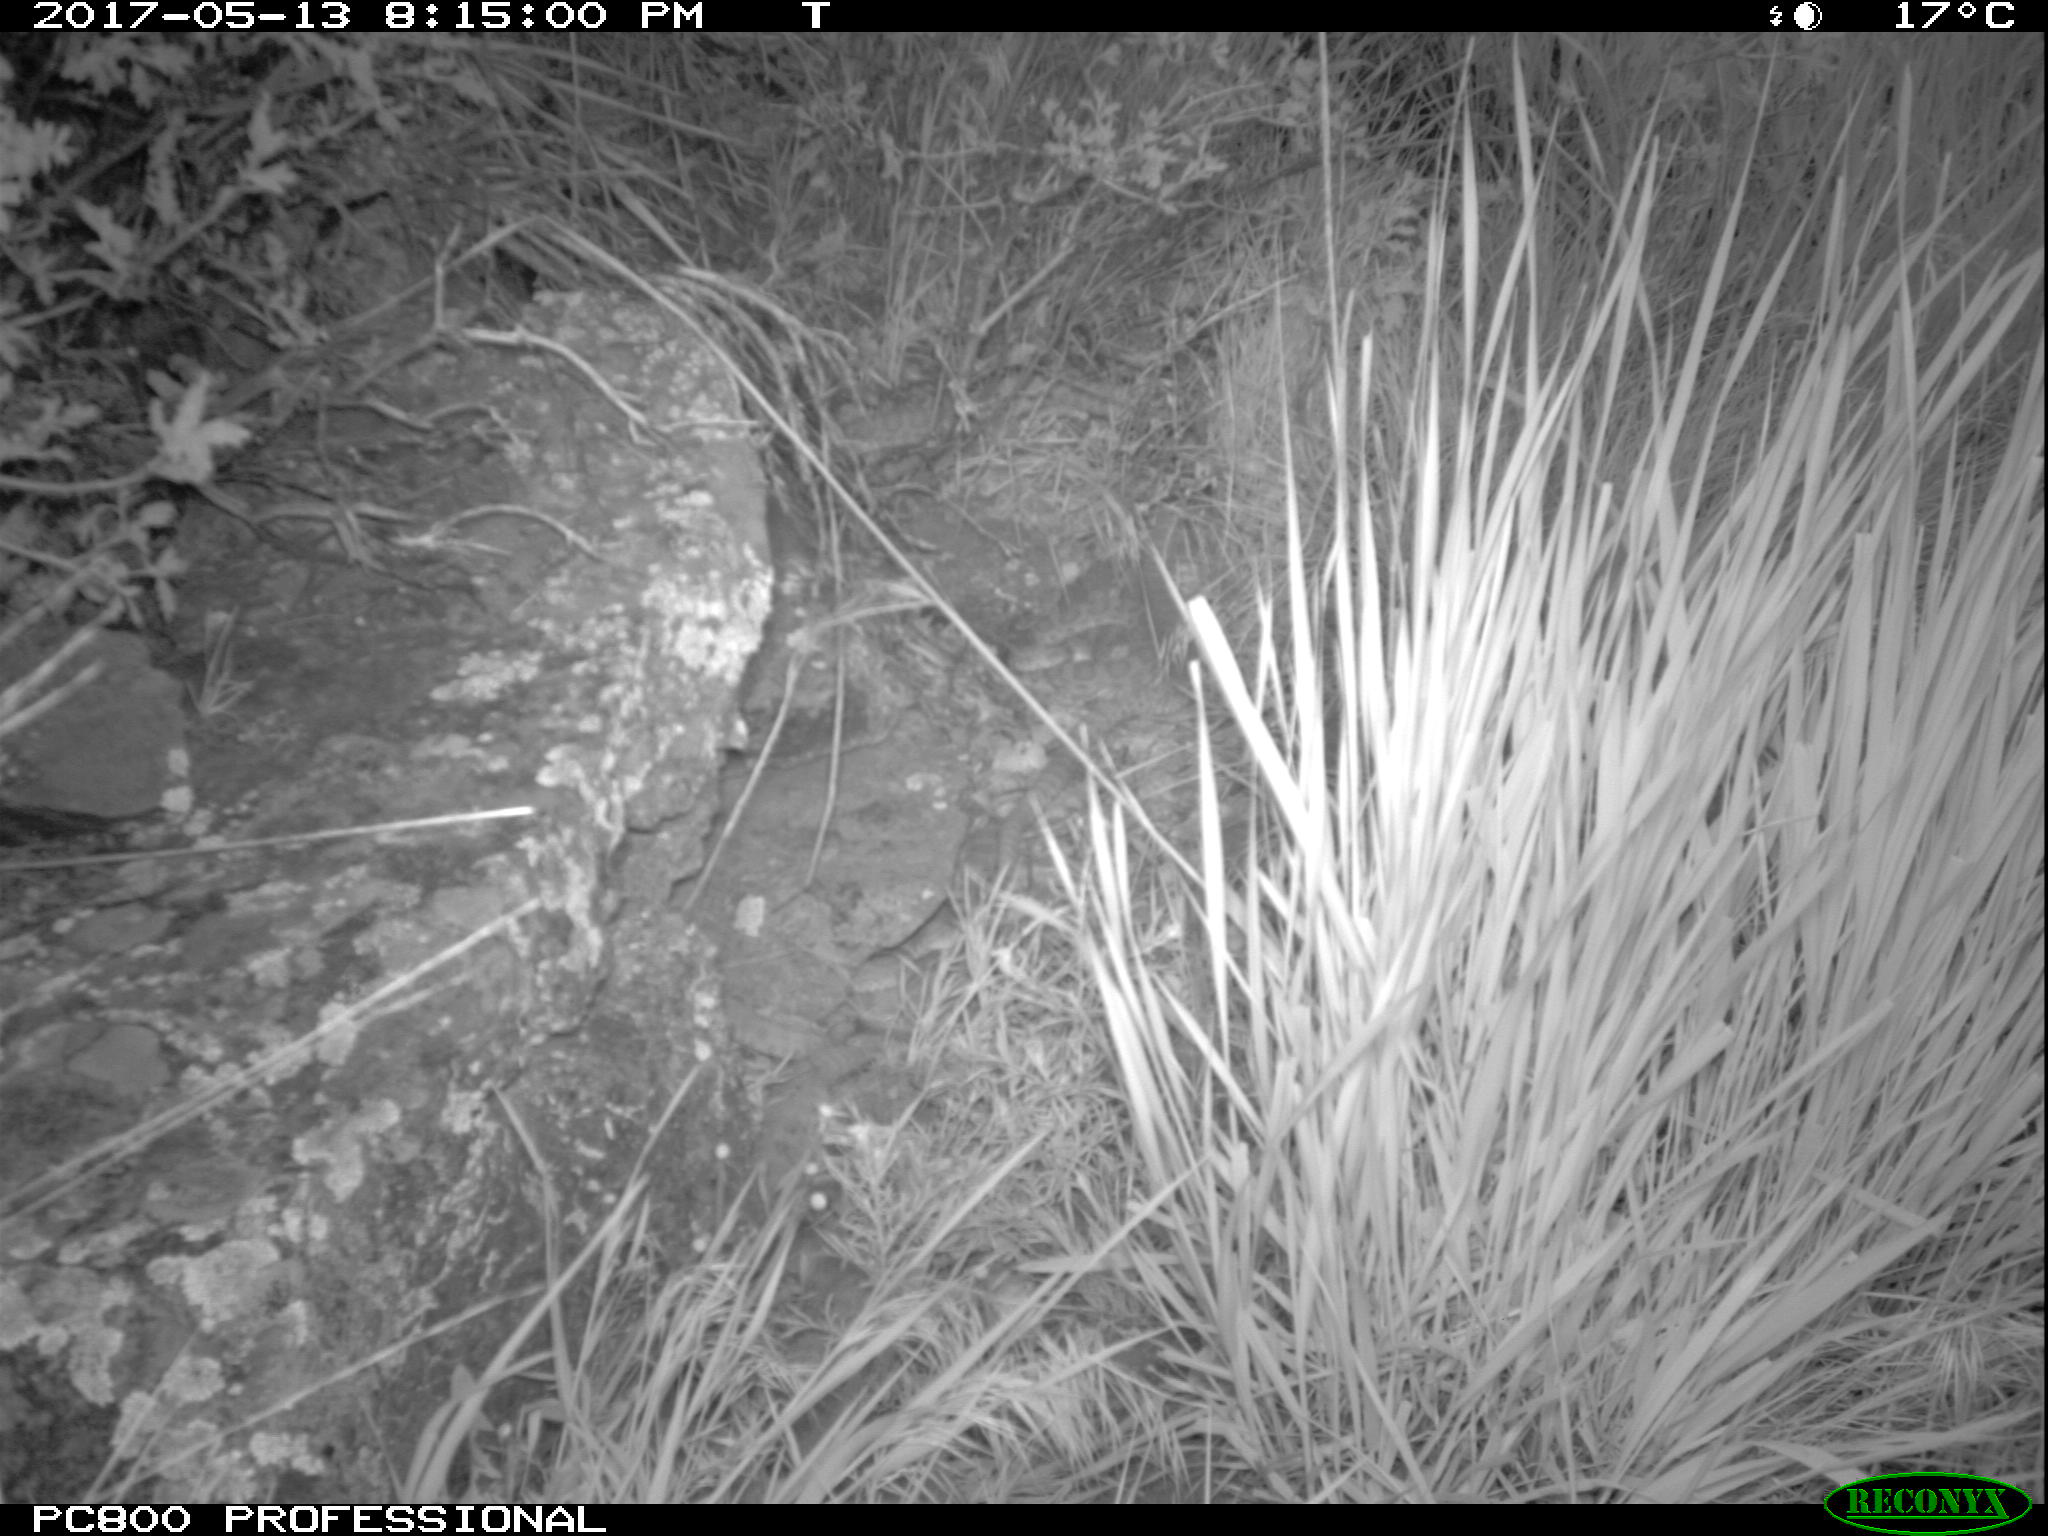snake: (1021, 679, 1180, 839), (1008, 592, 1156, 660)
